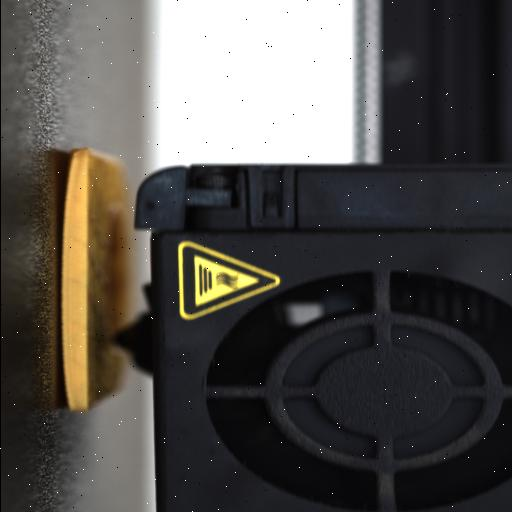warp: (55, 146, 84, 206), (60, 370, 78, 412)
